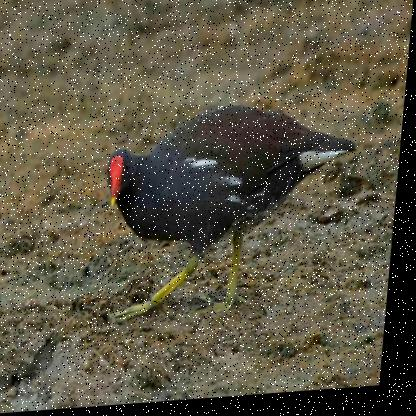Burung: (100, 100, 365, 326)
